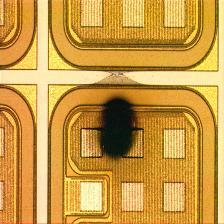PARTICLE: (63, 72, 171, 180)
